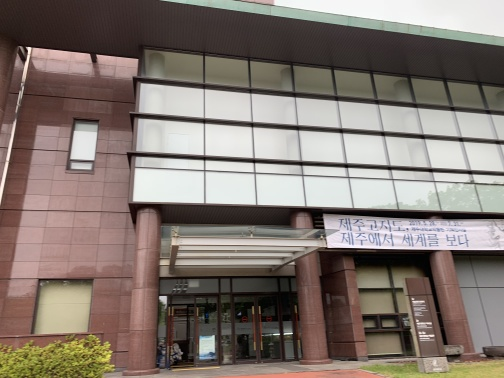Museum: (5, 7, 502, 368)
